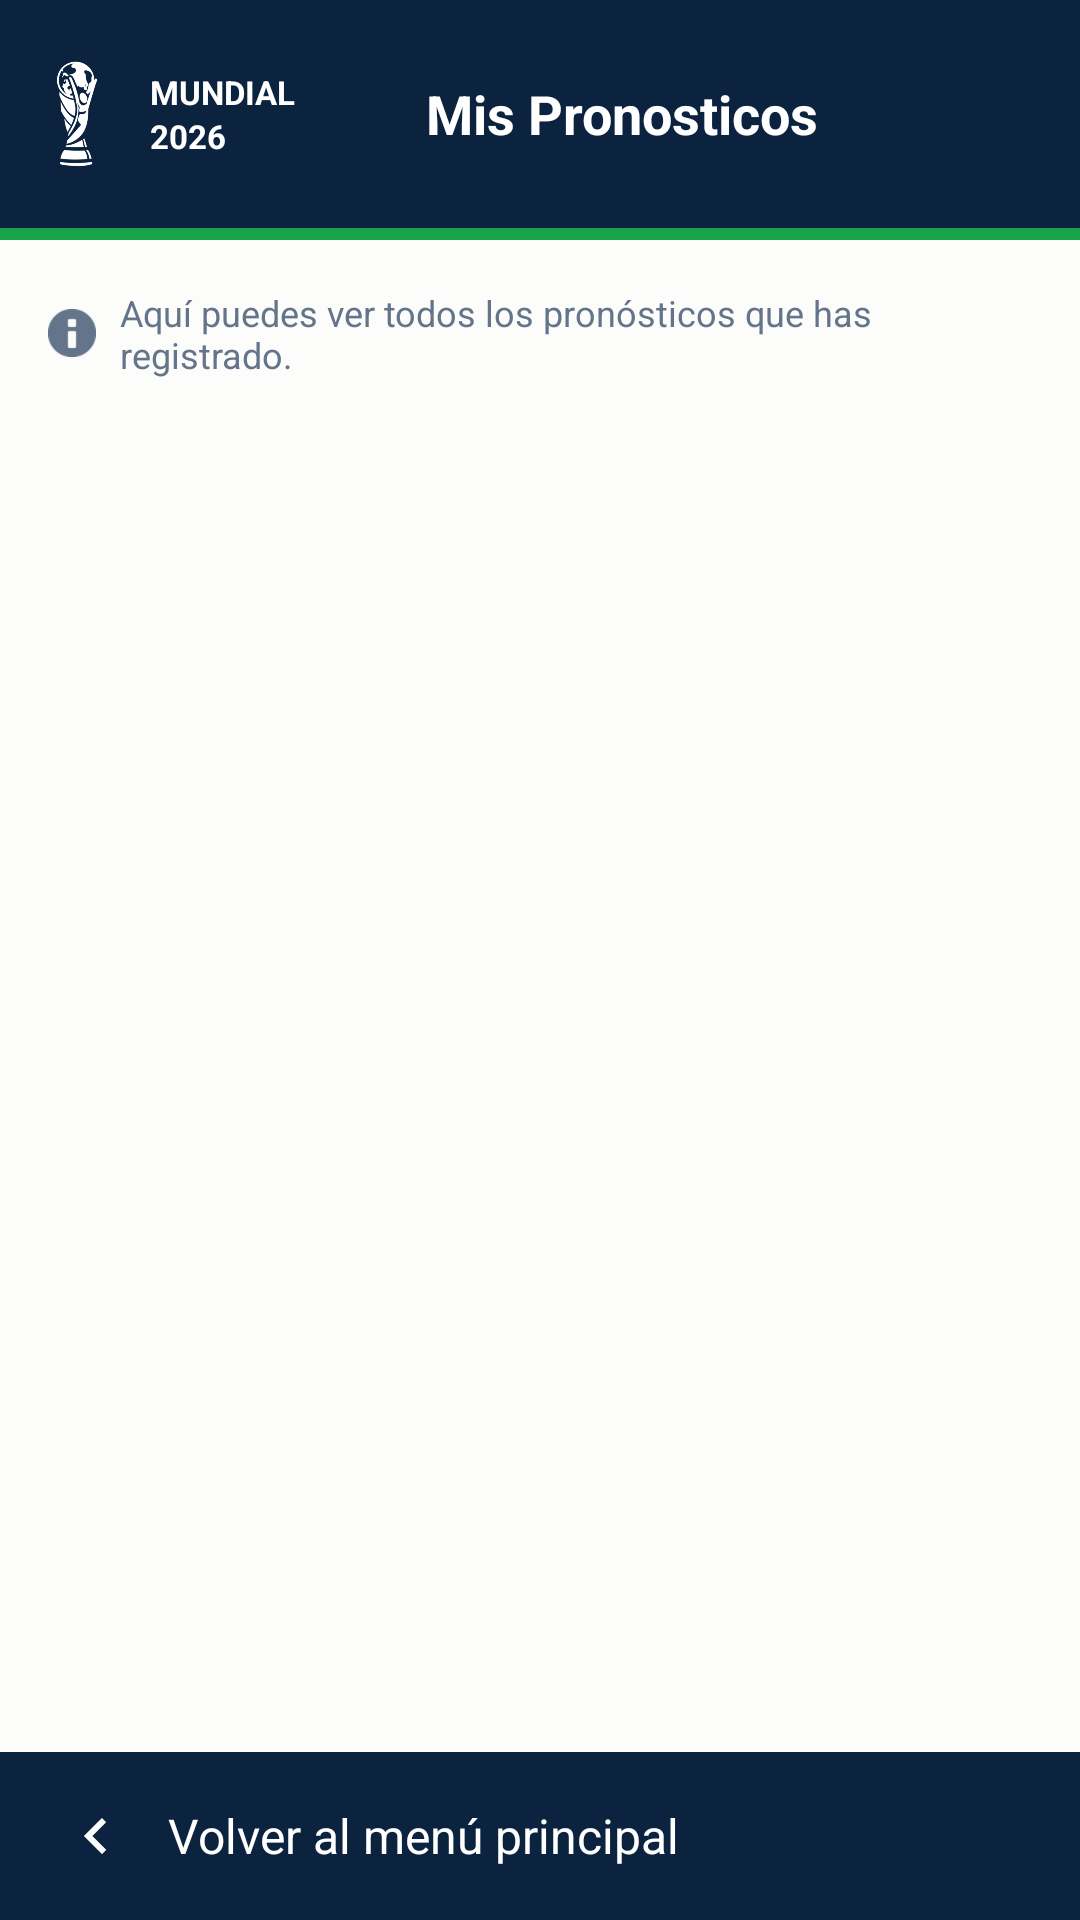

Locate icon controls on the screen. Image size 1080*1920, boxes as [x1,y1,x2,y2].
info: [48,309,96,357]
